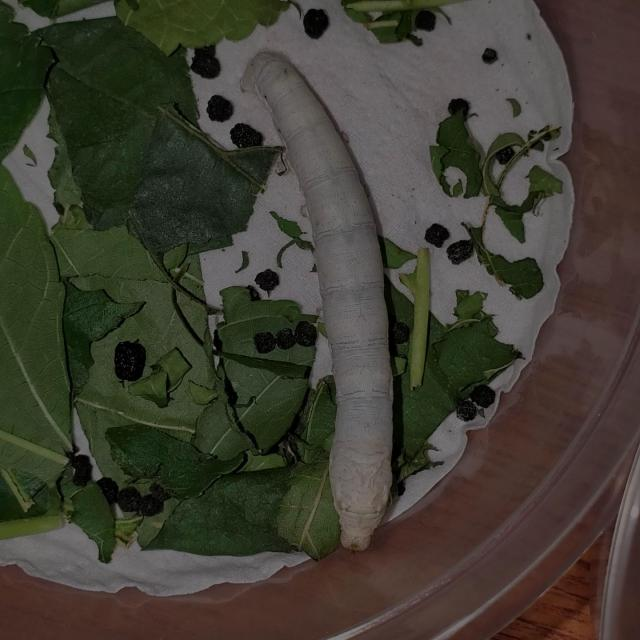Healthy: (205, 30, 425, 578)
